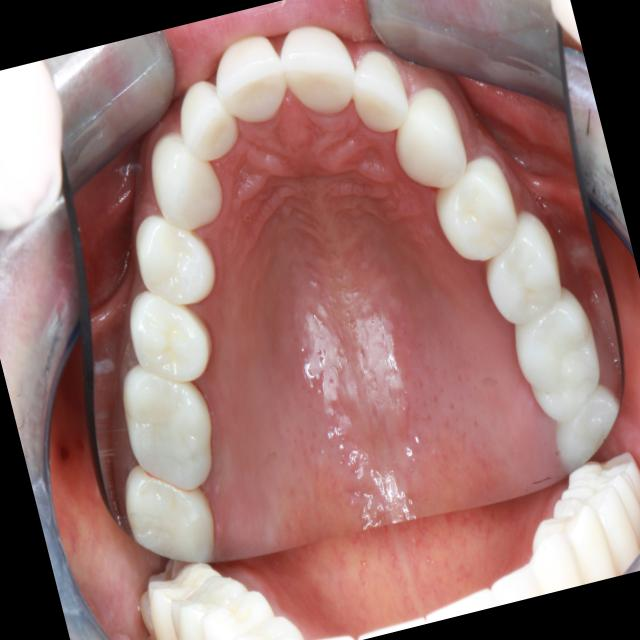tooth: (105, 342, 232, 507), (496, 276, 619, 435), (106, 444, 230, 583), (458, 196, 576, 334), (417, 137, 532, 275), (375, 64, 479, 205), (115, 270, 222, 400), (118, 199, 227, 323), (266, 3, 369, 133), (201, 24, 301, 139), (139, 121, 231, 238), (536, 374, 636, 479), (338, 30, 423, 150), (165, 70, 248, 173)
